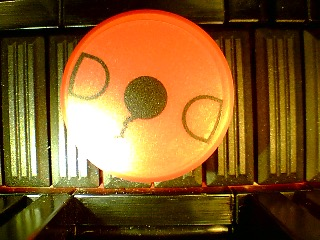CRACK: (59, 8, 234, 183)
